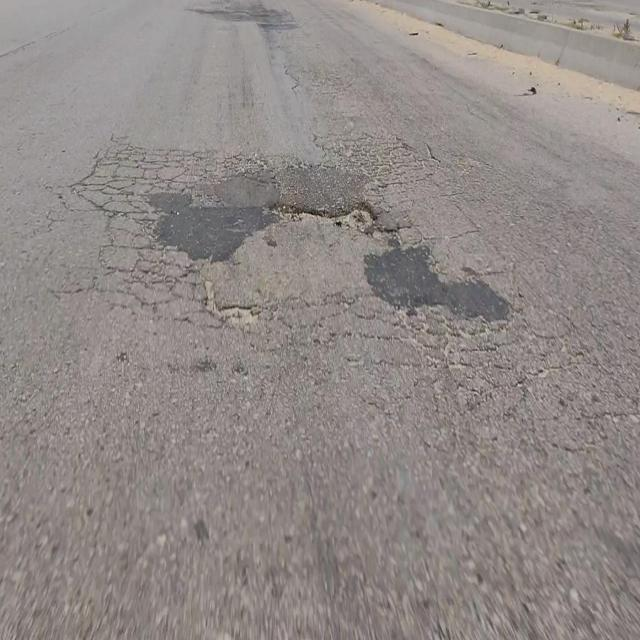Potholes: (268, 200, 399, 239)
